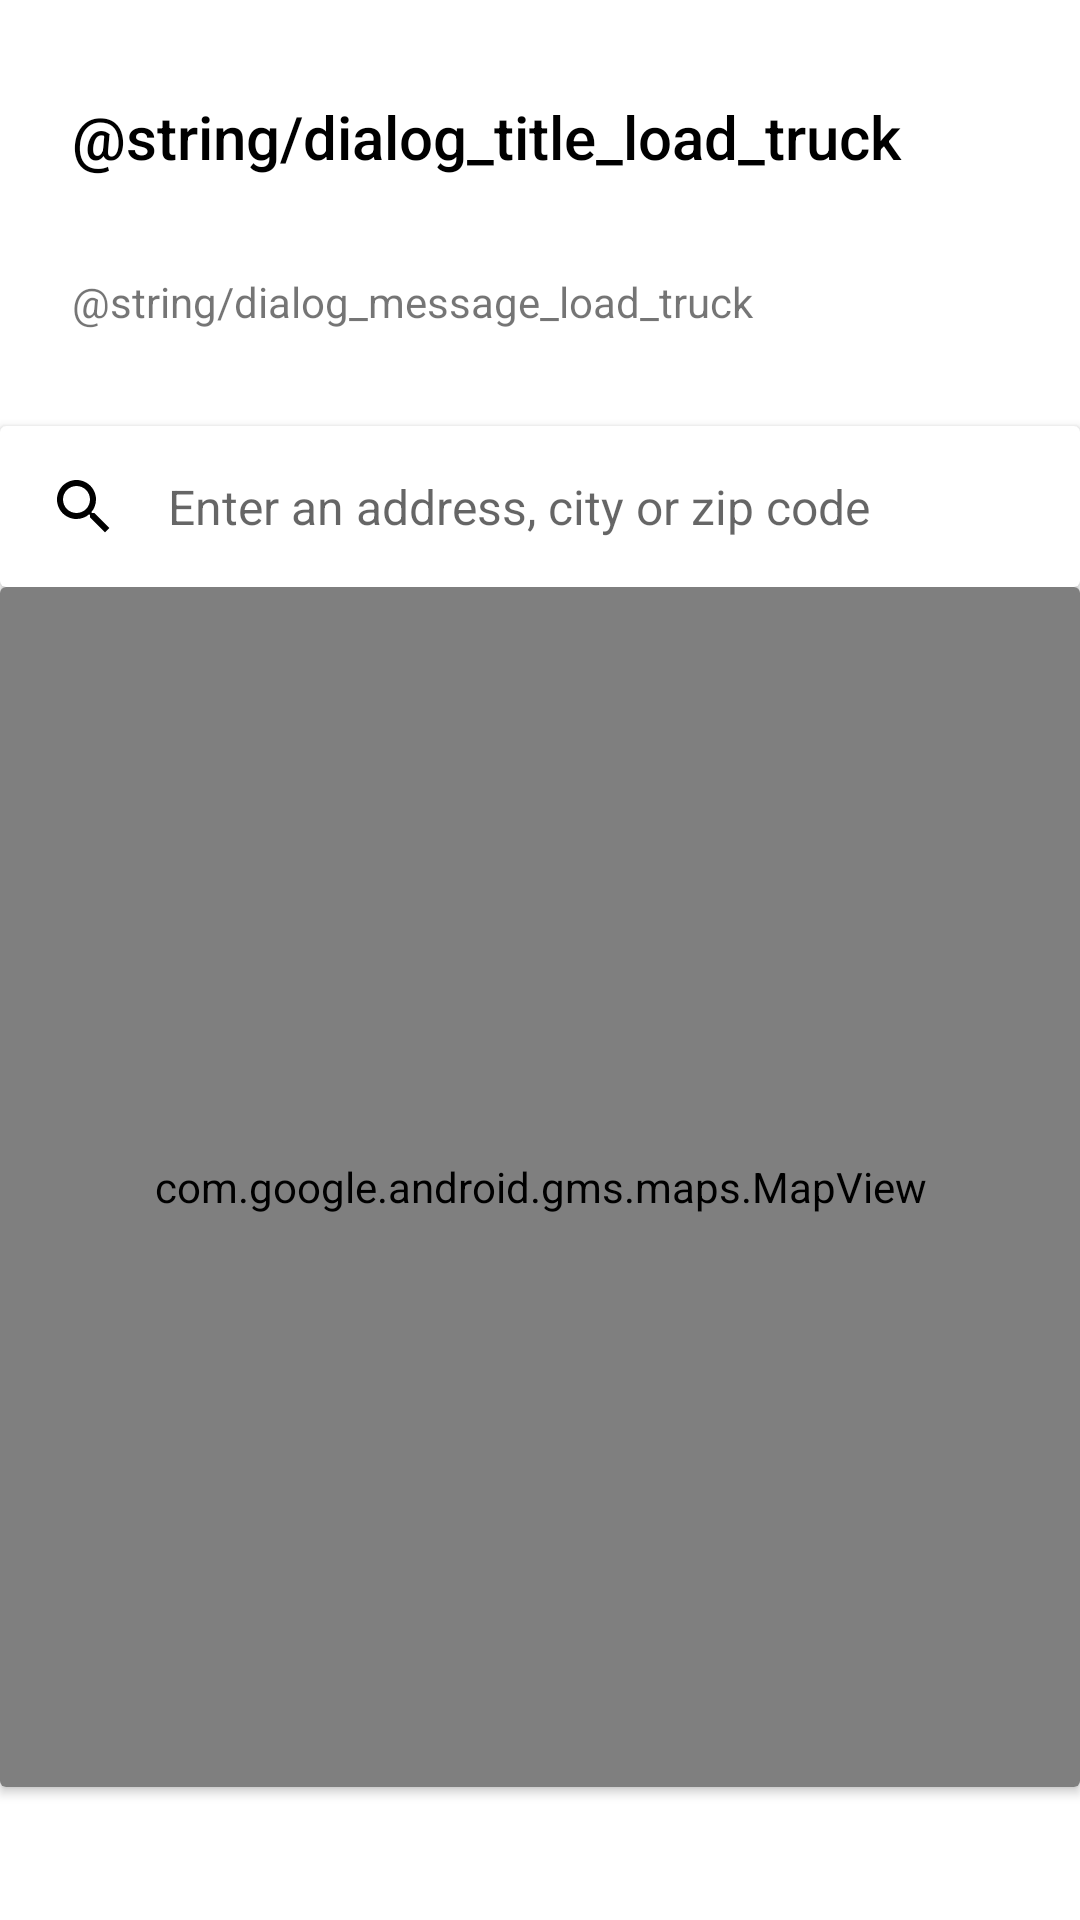

Locate icon controls on the screen. Image size 1080px x 1920px, boxes as box=[x1, y1, x2, y2].
search: box=[57, 480, 109, 532]
